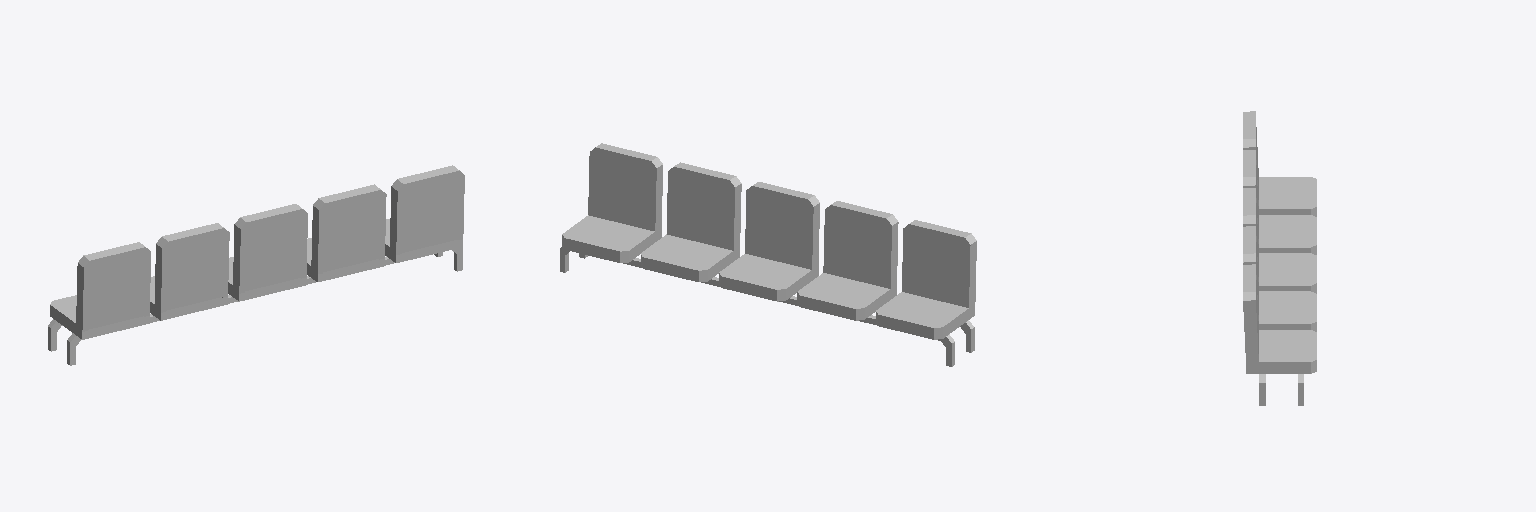
The model's file is chair4.obj.
The picture shows the model from 3 angles: view 1: azimuth 30°, elevation 25°; view 2: azimuth 150°, elevation 25°; view 3: azimuth 270°, elevation 25°; orthographic projection.
Visible parts, largest first — view 1: Part33, Part9, Part21, Part44, Part55, Part51, Part40, Part5, Part29, Part17, Part22, Part56 (+8 smaller); view 2: Part11, Part23, Part57, Part46, Part35, Part12, Part36, Part47, Part24, Part58, Part38, Part27 (+13 smaller); view 3: Part12, Part36, Part24, Part47, Part58, Part7, Part4.
Part boxes in pixels (x1,y1,x2,y2): Part33: (88,253,145,329); Part9: (402,177,458,252); Part21: (323,196,380,271); Part44: (167,234,223,309); Part55: (245,215,302,290); Part51: (233,224,246,297); Part40: (154,244,167,314); Part5: (390,186,402,258); Part29: (76,263,89,331); Part17: (311,206,324,273); Part22: (319,184,380,208); Part56: (240,204,302,227); Part11: (594,153,650,229); Part23: (672,173,729,248); Part57: (751,192,807,268); Part46: (829,211,885,287); Part35: (907,230,964,306); Part12: (568,217,648,248); Part36: (882,293,962,325); Part47: (804,274,883,306); Part24: (647,236,727,267); Part58: (725,255,805,287); Part38: (800,293,857,320); Part27: (878,312,936,339); Part12: (1259,332,1310,359); Part36: (1259,179,1310,206); Part24: (1259,294,1310,320); Part47: (1259,218,1310,244); Part58: (1259,256,1310,282); Part7: (1243,300,1258,370); Part4: (1253,360,1310,373).
Bounding box in the file's own units: 15.18 × 4.03 × 2.5.